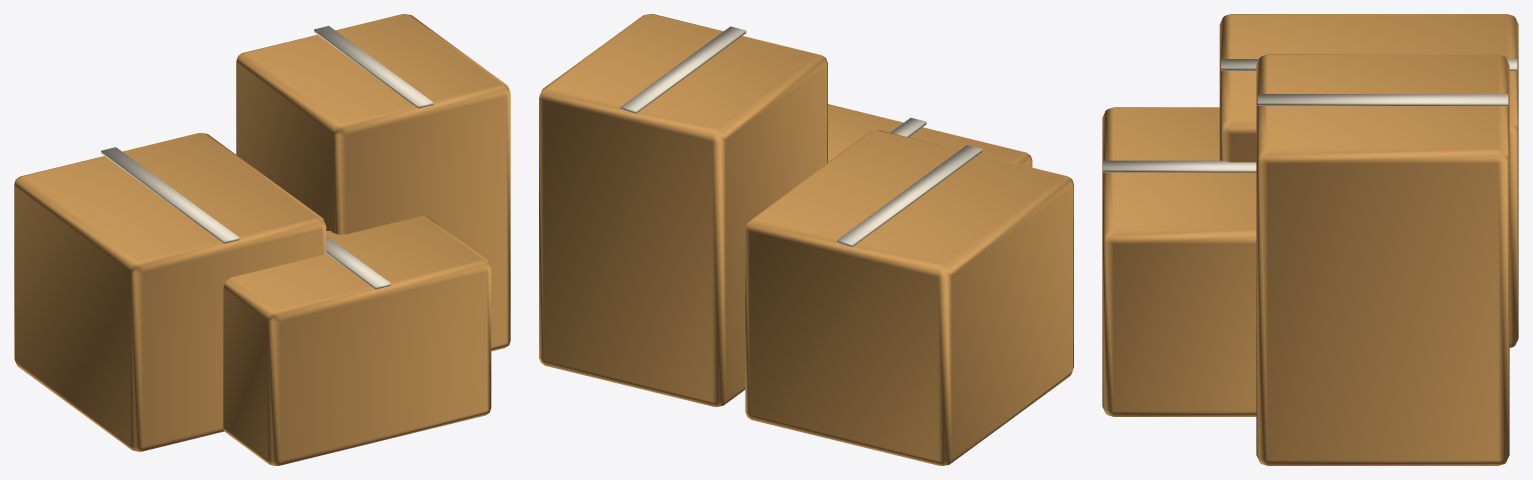
Rendered from warehouse-cartons.glb.
3 renders of one model, left to right at view 1: azimuth 30°, elevation 25°; view 2: azimuth 150°, elevation 25°; view 3: azimuth 270°, elevation 25°, orthographic. The views are drawn at different scales.
Parts seen in each view (by area): view 1: interior_4_woodLight.002, interior_4_ivory.001; view 2: interior_4_woodLight.002, interior_4_ivory.001; view 3: interior_4_woodLight.002, interior_4_ivory.001.
Boxes of the visible parts, box(x1,y1,x2,y2) form: interior_4_woodLight.002: box(14, 14, 510, 465); interior_4_ivory.001: box(101, 26, 433, 289); interior_4_woodLight.002: box(539, 14, 1073, 465); interior_4_ivory.001: box(620, 26, 982, 246); interior_4_woodLight.002: box(1102, 14, 1518, 465); interior_4_ivory.001: box(1103, 59, 1517, 172).
Size of the model in its own units: 1.19 by 0.768 by 0.905.
